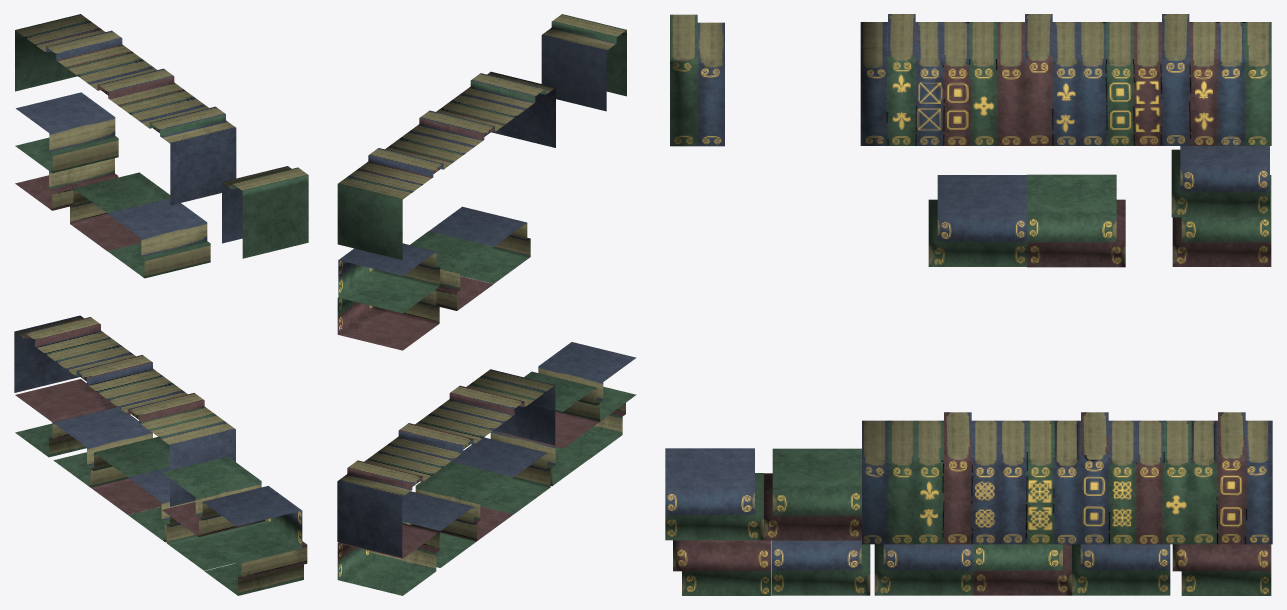
File: BookCaseFIll_D_01.fbx
3 renders of one model, left to right at view 1: azimuth 30°, elevation 25°; view 2: azimuth 150°, elevation 25°; view 3: azimuth 270°, elevation 25°, orthographic. The views are drawn at different scales.
Visible parts, largest first — view 1: BookCaseFIll_D_01; view 2: BookCaseFIll_D_01; view 3: BookCaseFIll_D_01.
Boxes of the visible parts, <box> form: BookCaseFIll_D_01: <box>14,14,308,595</box>; BookCaseFIll_D_01: <box>337,14,636,595</box>; BookCaseFIll_D_01: <box>665,14,1272,595</box>.
Bounding box in the file's own units: 27.89 × 147 × 150.
